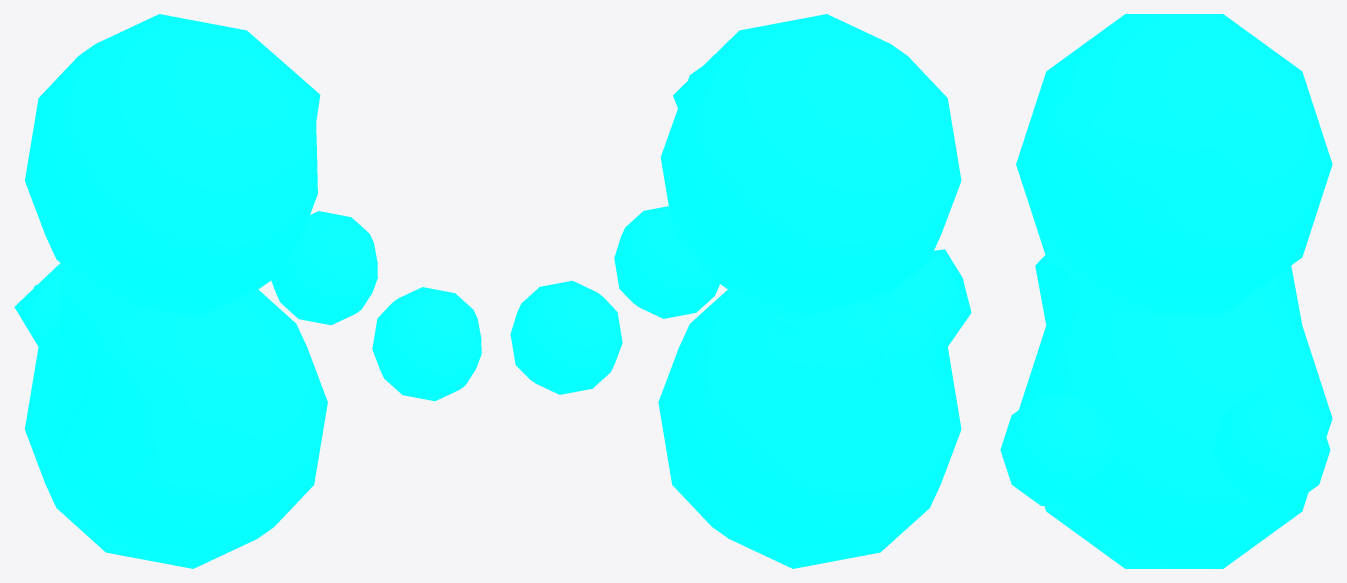
Rendered from soul.gltf.
The picture shows the model from 3 angles, left to right: view 1: azimuth 30°, elevation 25°; view 2: azimuth 150°, elevation 25°; view 3: azimuth 270°, elevation 25°; orthographic projection. The views are drawn at different scales.
Visible parts, largest first — view 1: Head, Body, Right Hand, Left Hand; view 2: Head, Body, Left Hand, Right Hand; view 3: Head, Body, Left Hand, Right Hand.
Part boxes in pixels (x1,y1,x2,y2): Head: (25,14,320,318); Body: (14,263,327,568); Right Hand: (372,287,481,401); Left Hand: (271,211,377,325); Head: (660,14,961,320); Body: (658,249,971,568); Left Hand: (510,280,622,394); Right Hand: (614,206,719,318); Head: (1016,14,1332,314); Body: (1019,255,1332,568); Left Hand: (1212,394,1330,505); Right Hand: (1000,394,1118,505).
Bounding box in the file's own units: 2.85 × 3.77 × 2.1.
